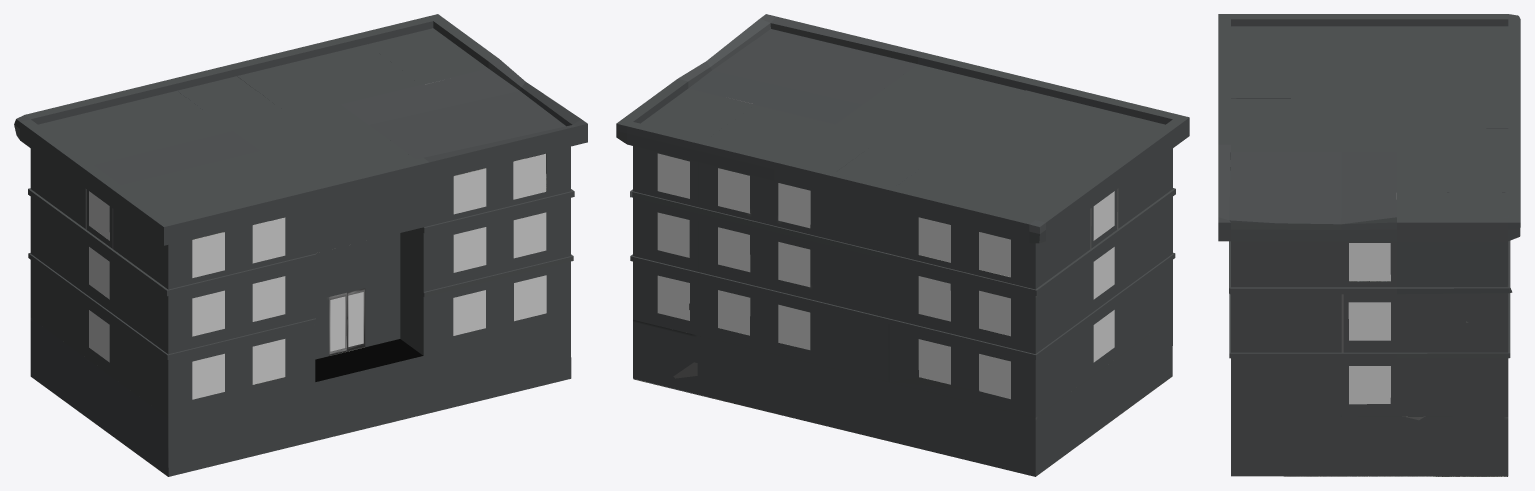
File: HospitalFinalBlend.fbx
3 renders of one model, left to right at view 1: azimuth 30°, elevation 25°; view 2: azimuth 150°, elevation 25°; view 3: azimuth 270°, elevation 25°, orthographic.
Parts seen in each view (by area): view 1: Hospital, Windows, GlassDoorL, GlassDoorR; view 2: Hospital, Windows; view 3: Hospital, Windows.
Boxes of the visible parts, x1,y1,x2,y2 form: Hospital: (14, 14, 587, 476); Windows: (89, 153, 546, 399); GlassDoorL: (330, 296, 345, 351); GlassDoorR: (348, 292, 363, 346); Hospital: (616, 14, 1189, 476); Windows: (657, 153, 1114, 399); Hospital: (1218, 14, 1520, 476); Windows: (1348, 243, 1390, 404).
Bounding box in the file's own units: 10561 × 6132 × 6464.
5 materials, 2 textured.
